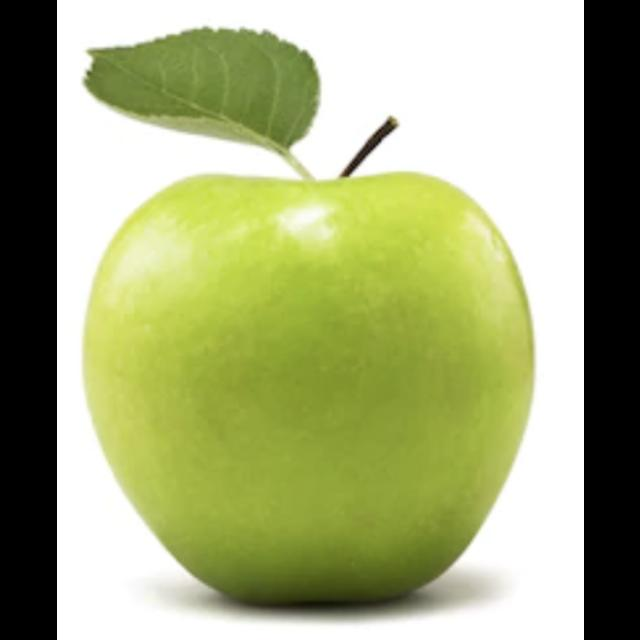Apel Segar: (82, 173, 534, 612)
